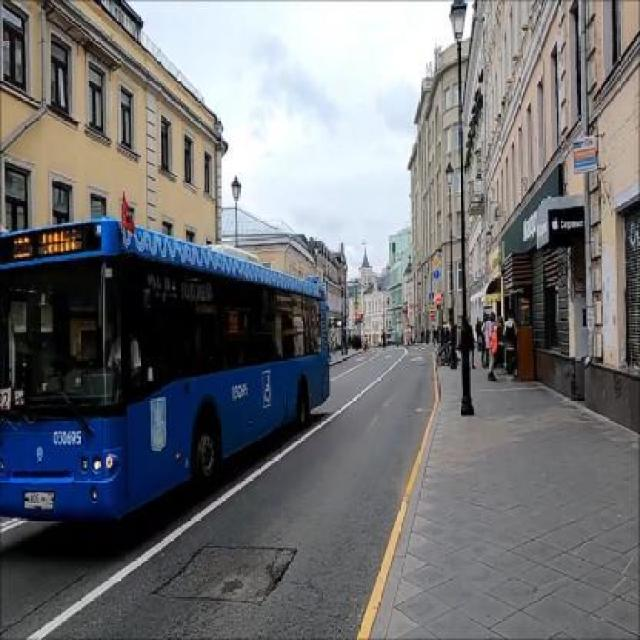bus: (1, 219, 332, 520)
